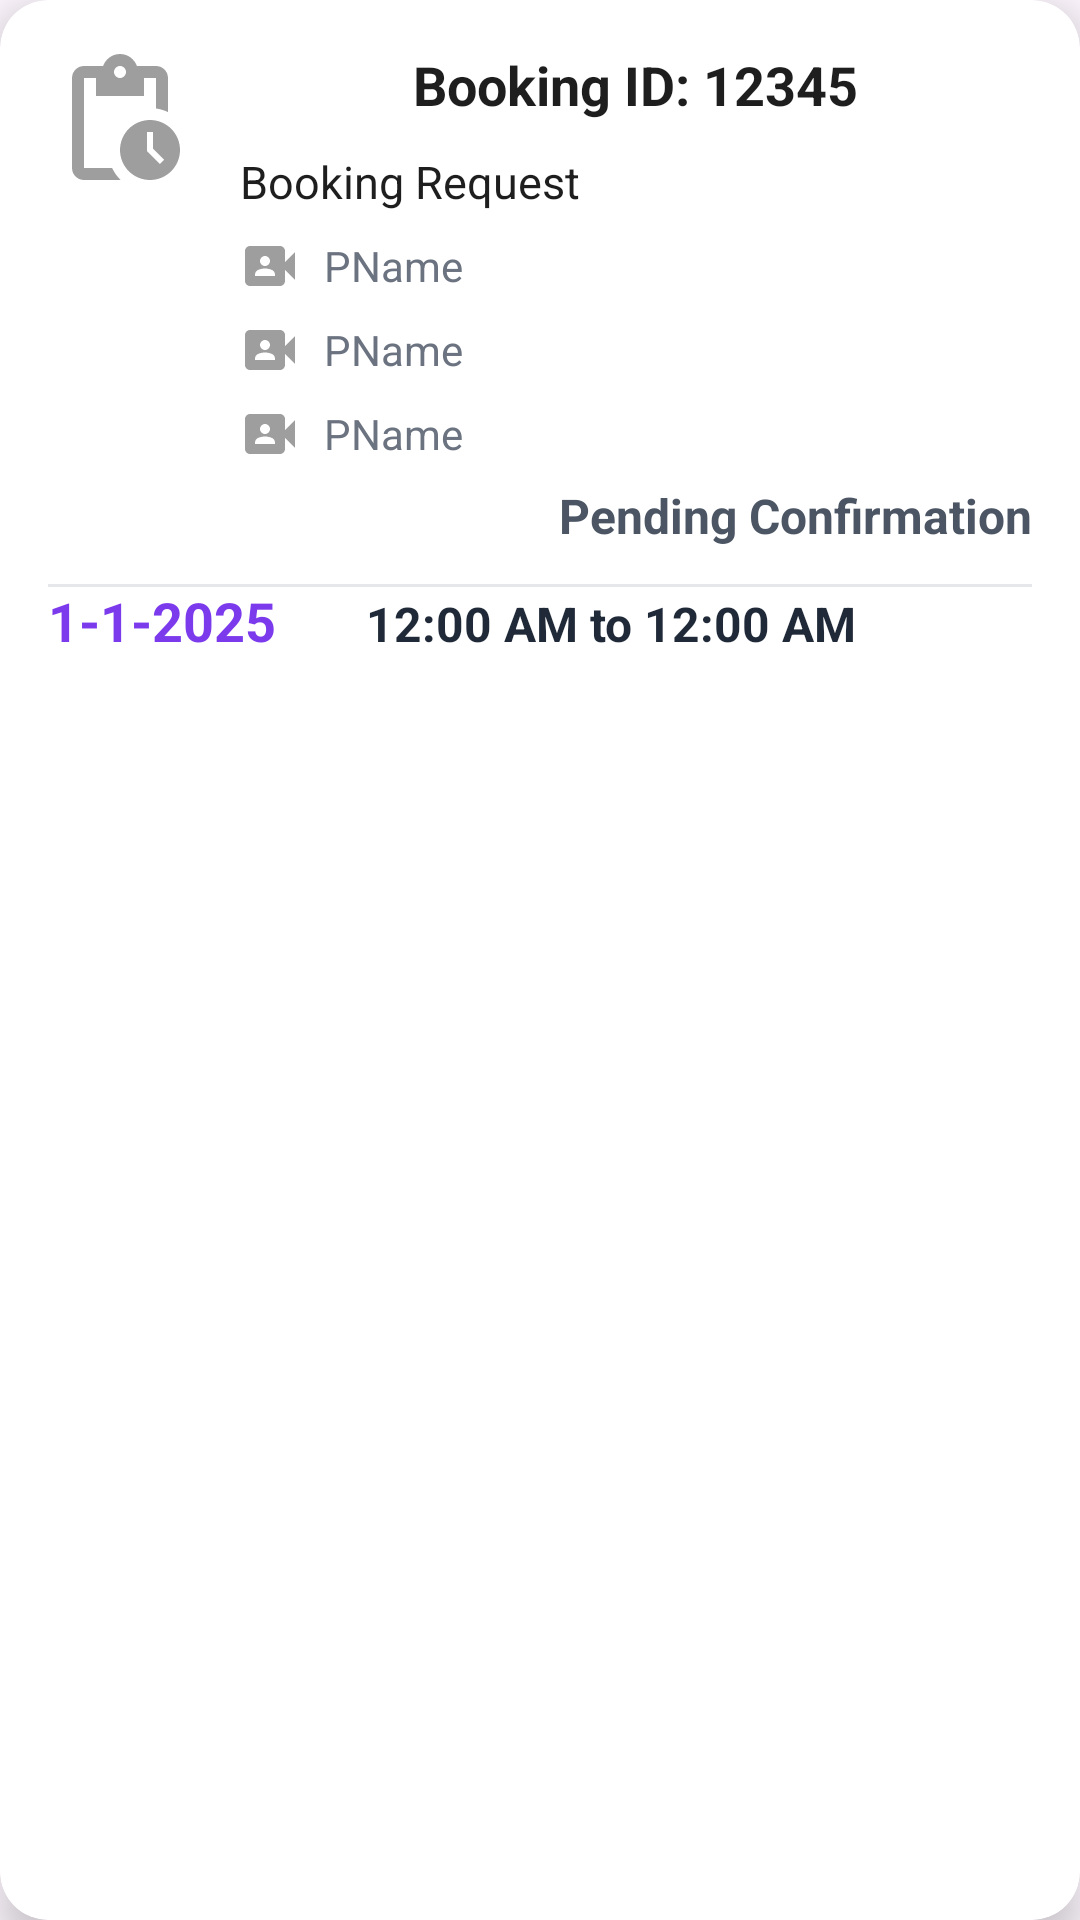

Icon click points for this 1080 × 1920 phone screenshot, format (x,y):
pending: (126,117)
